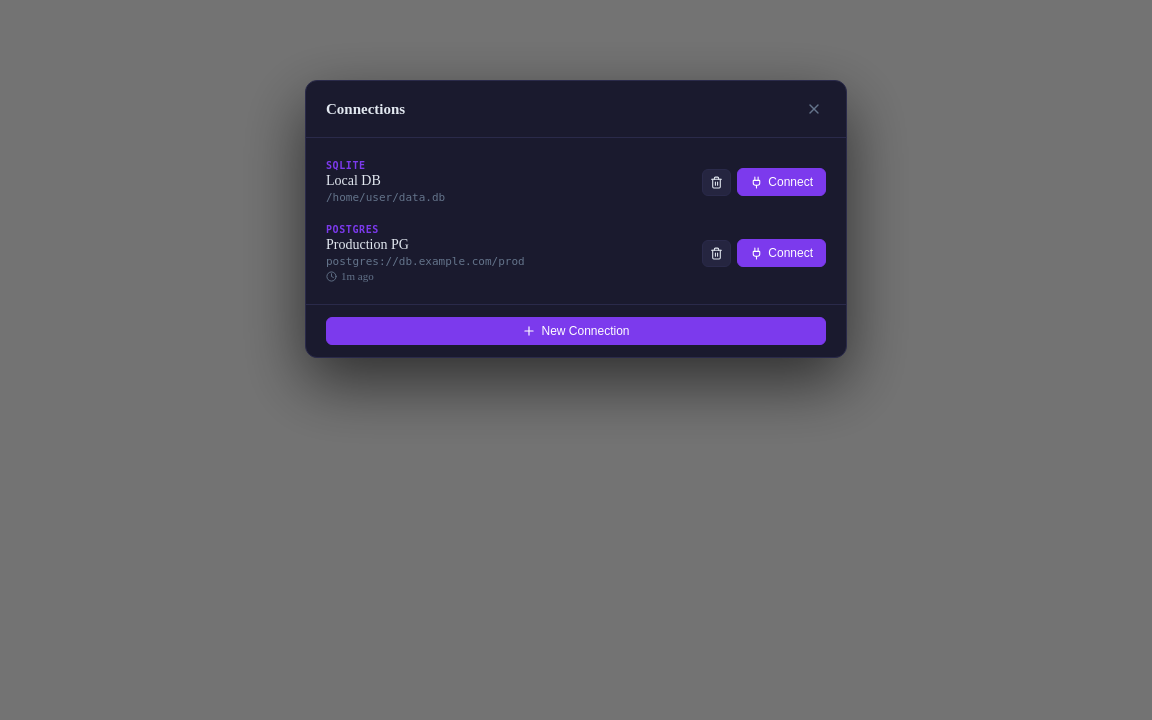
Scenario: ConnectionManager › shows delete confirmation before deleting
Expected: the text "Local DB" is shown, [326,173,381,188]
// Click the trash icon button (first one)
Click the button titled "delete" in the row of "sqlite" at (717, 182), box [702,168,731,196]
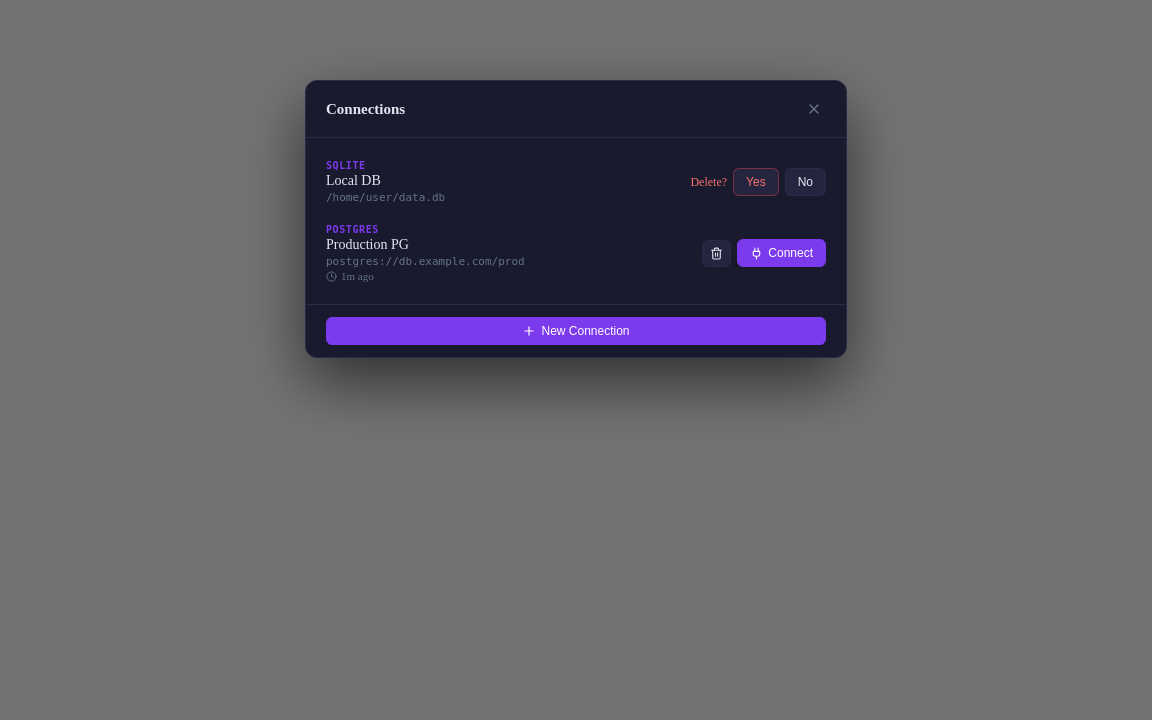
Now the text "Delete?" is shown, box [690,174,727,190]
